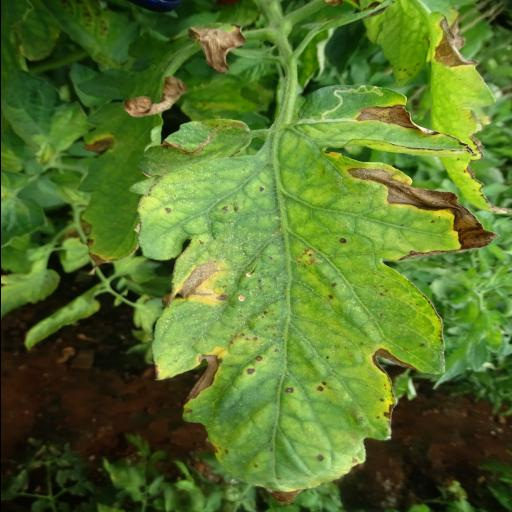Early Blight: (136, 150, 500, 496)
